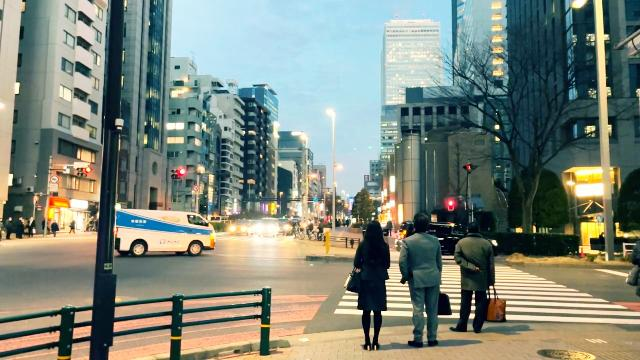berdiri: (398, 207, 446, 349), (451, 216, 503, 332), (348, 216, 390, 354)
